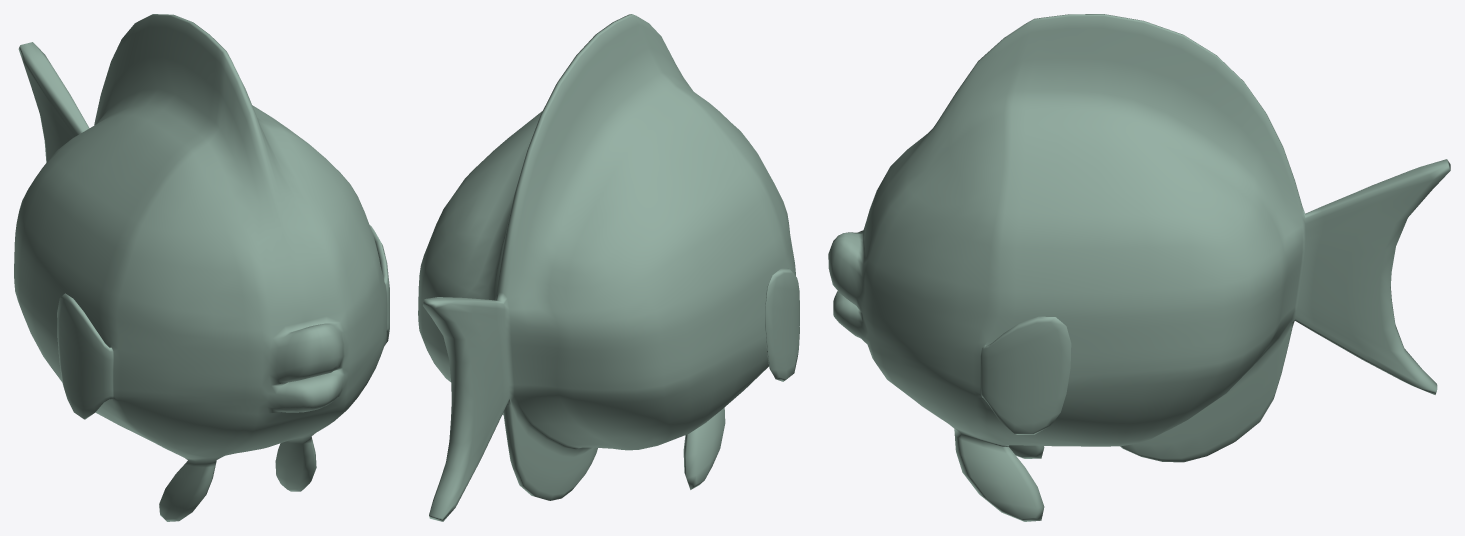
The model's file is Pez_Loro.fbx.
3 views of the same model, side by side, from view 1: azimuth 30°, elevation 25°; view 2: azimuth 150°, elevation 25°; view 3: azimuth 270°, elevation 25° (orthographic). The views are drawn at different scales.
Visible parts, largest first — view 1: Pez_Loro; view 2: Pez_Loro; view 3: Pez_Loro.
Part boxes in pixels (x1,y1,x2,y2): Pez_Loro: (14, 14, 389, 521); Pez_Loro: (418, 14, 799, 521); Pez_Loro: (828, 14, 1450, 521).
Size of the model in its own units: 2.41 by 3.44 by 4.08.
